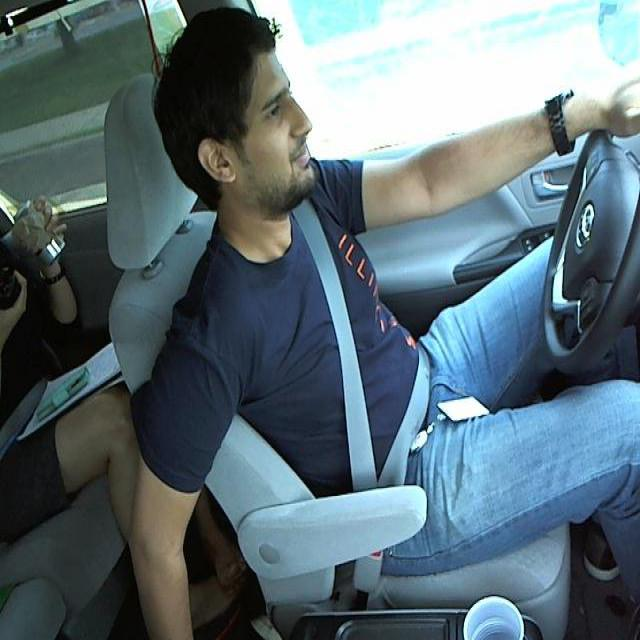seatbelt: (296, 232, 440, 485)
